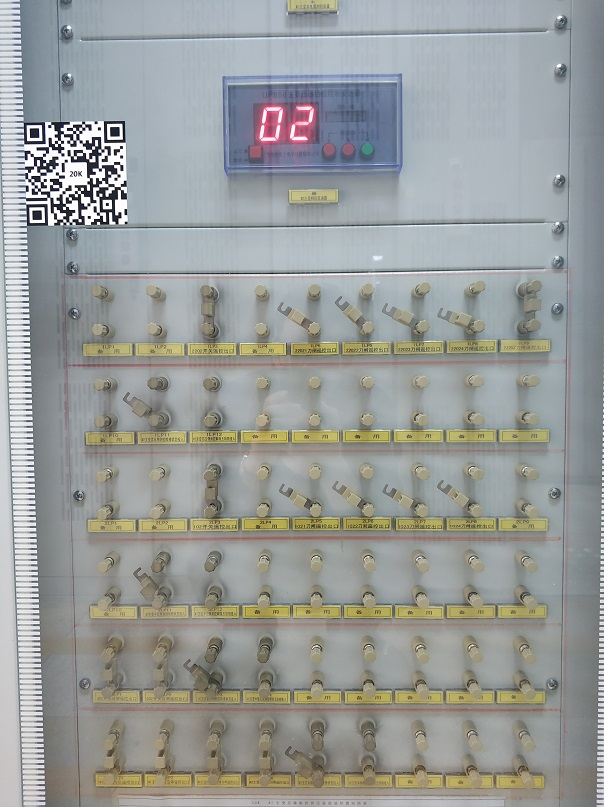ybempty: (495, 723, 539, 783), (140, 279, 173, 348), (353, 632, 386, 698), (244, 457, 277, 523), (513, 366, 543, 431), (406, 368, 435, 431)
ybopen: (281, 716, 332, 786), (130, 545, 183, 610), (433, 457, 487, 516), (328, 456, 380, 515)
